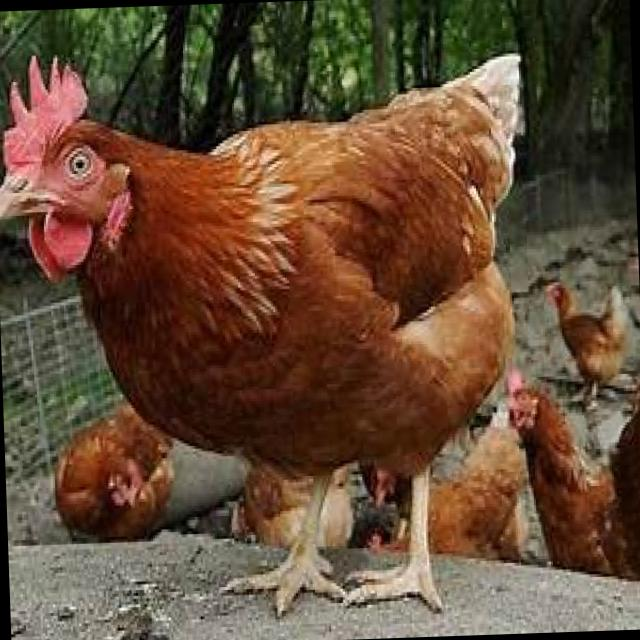chicken: (0, 47, 538, 606), (505, 364, 640, 582), (54, 396, 178, 546), (544, 282, 628, 416)
